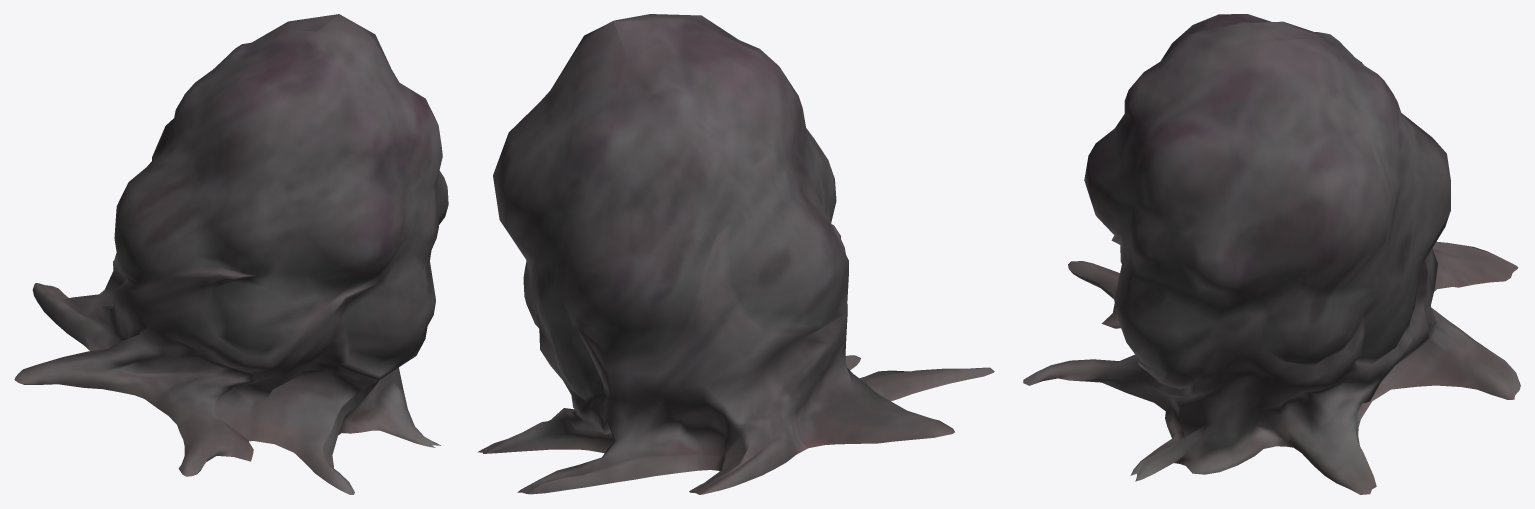
Rendered from Cocoon (2).fbx.
The picture shows the model from 3 angles, left to right: view 1: azimuth 30°, elevation 25°; view 2: azimuth 150°, elevation 25°; view 3: azimuth 270°, elevation 25°; orthographic projection. The views are drawn at different scales.
Parts seen in each view (by area): view 1: Egg; view 2: Egg; view 3: Egg.
Part boxes in pixels (x1,y1,x2,y2): Egg: (14, 14, 448, 494); Egg: (477, 14, 994, 494); Egg: (1023, 14, 1520, 494).
Bounding box in the file's own units: 1.16 × 1.08 × 1.16.
